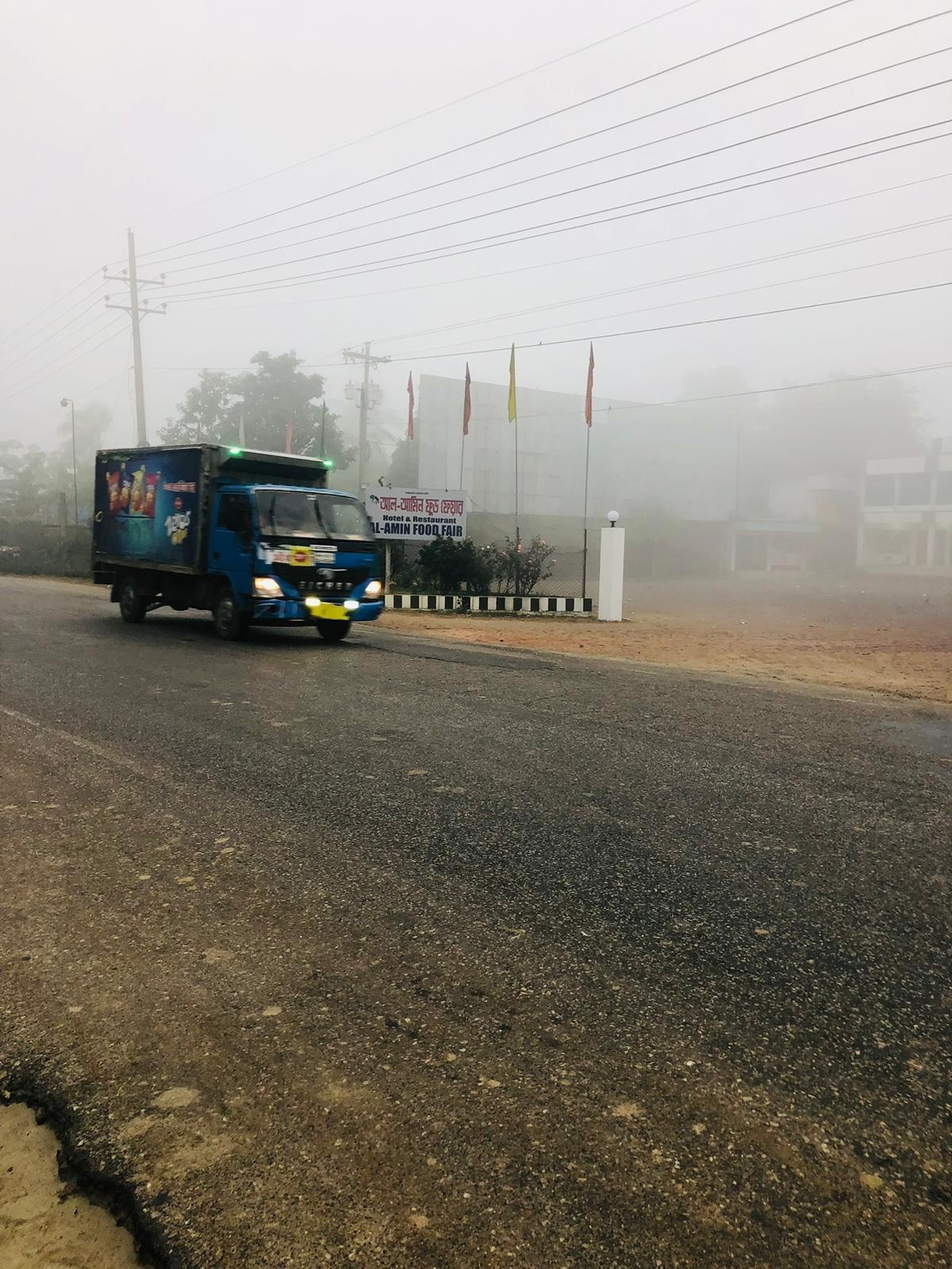Truck: (77, 432, 410, 662)
